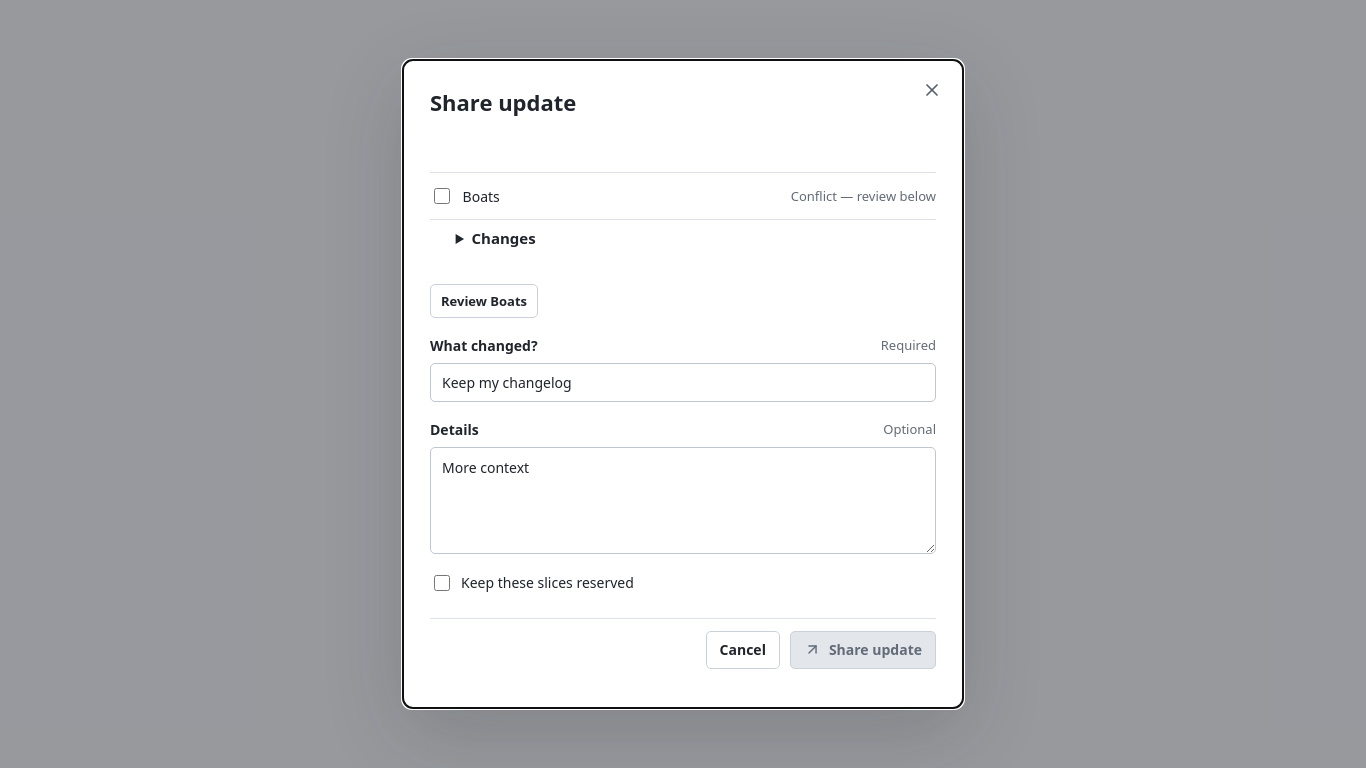
Test: reviews conflicts inside Share and returns to the unchanged draft
Click the button "Review Boats".
click(484, 301)  # box [430,284,538,318]
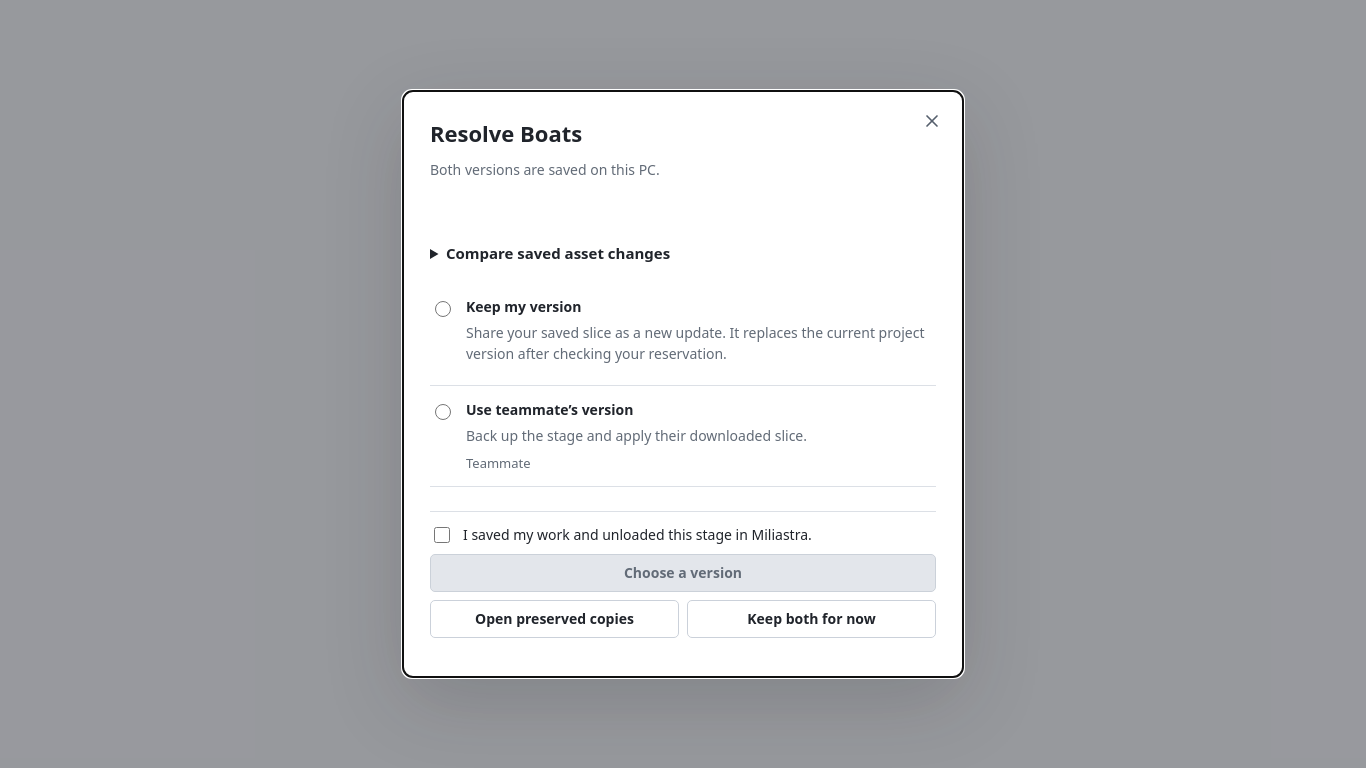
Expected: the dialog "Resolve Boats" is shown, [403,91,963,677]
Expected: the heading "Share update" is gone
Click the button "Keep both for now".
click(812, 619)  # box [687,600,936,638]
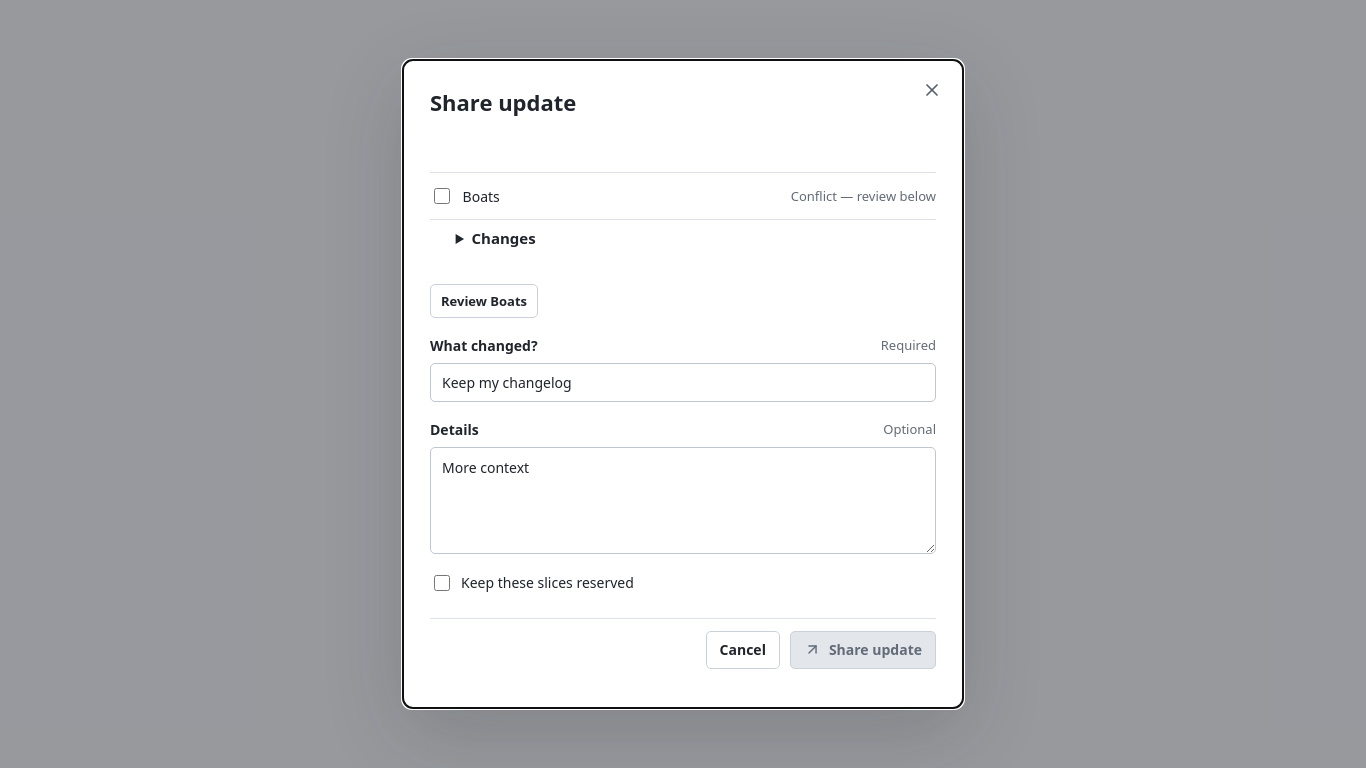
Expected: the button "Share update" is disabled, [790,631,936,669]
Expected: the dialog "Share update" is shown, [403,60,963,708]
Expected: the field showing "Keep my changelog" is shown, [430,363,936,402]
